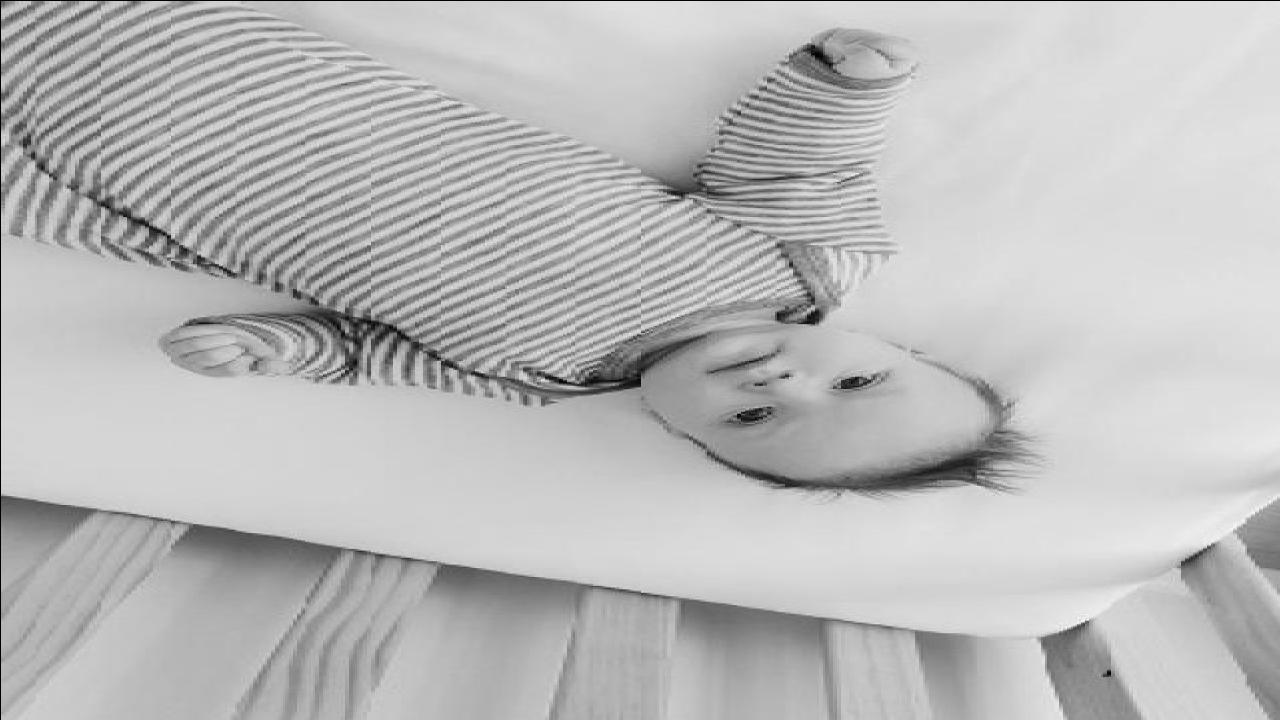hand: (156, 322, 290, 378), (808, 27, 921, 81)
